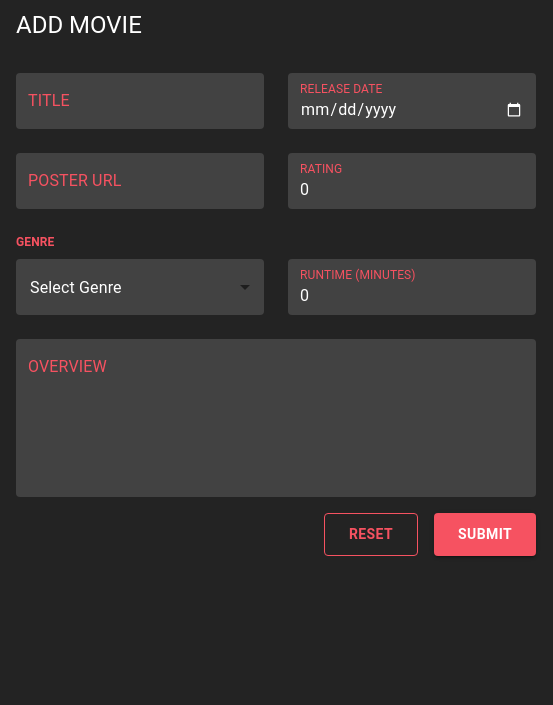
Test: MovieForm › Reset Logic › RESET clears validation errors
The width and height of the screenshot is (553, 705).
Click the button "SUBMIT". click: click(485, 534)
box: 434,513 -> 536,556
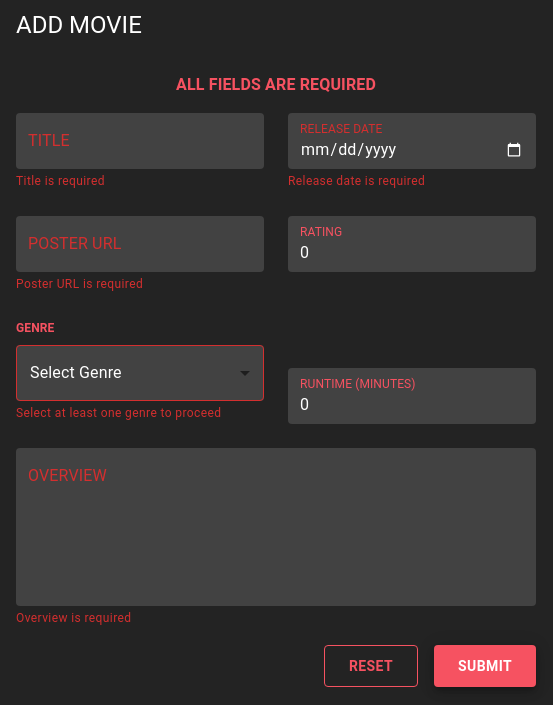
Now the text "Title is required" is shown, box 16,174 -> 105,188
Click the button "RESET". click: click(371, 666)
box: 324,645 -> 418,687
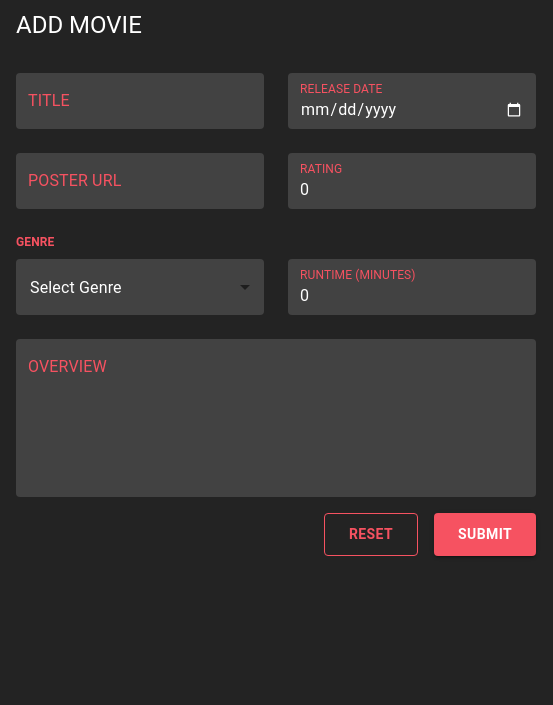
Now the text "Title is required" is gone
